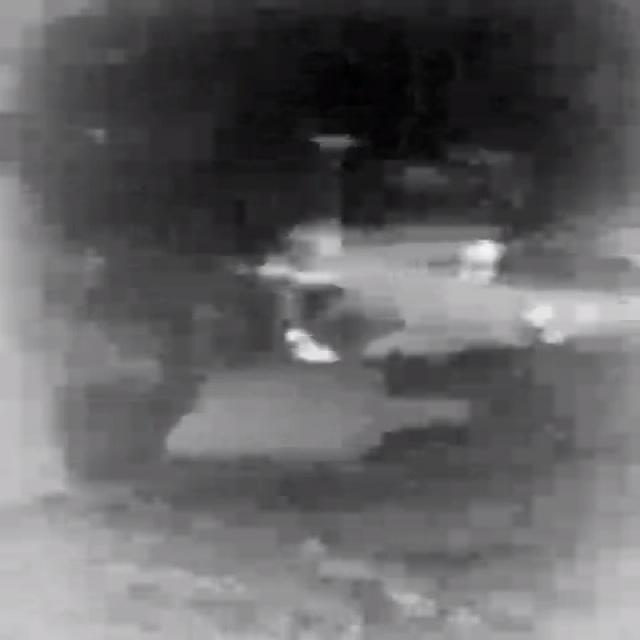cheetah: (288, 330, 339, 362)
